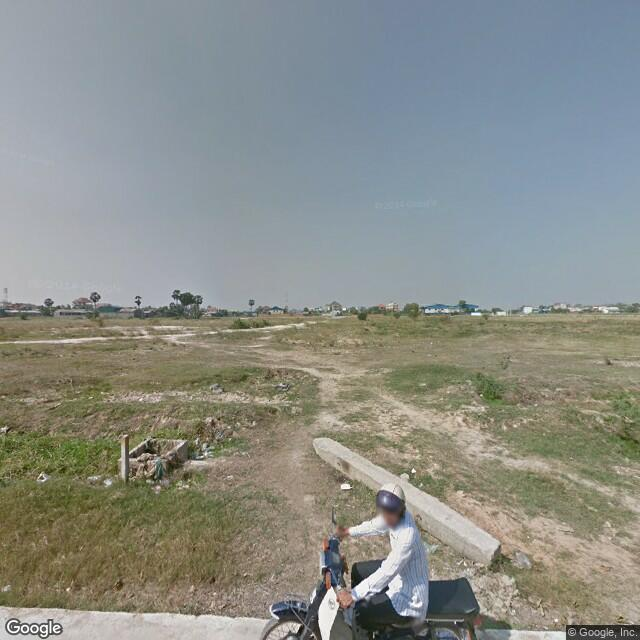litter: (131, 454, 165, 480), (192, 438, 216, 460), (35, 470, 48, 482)
